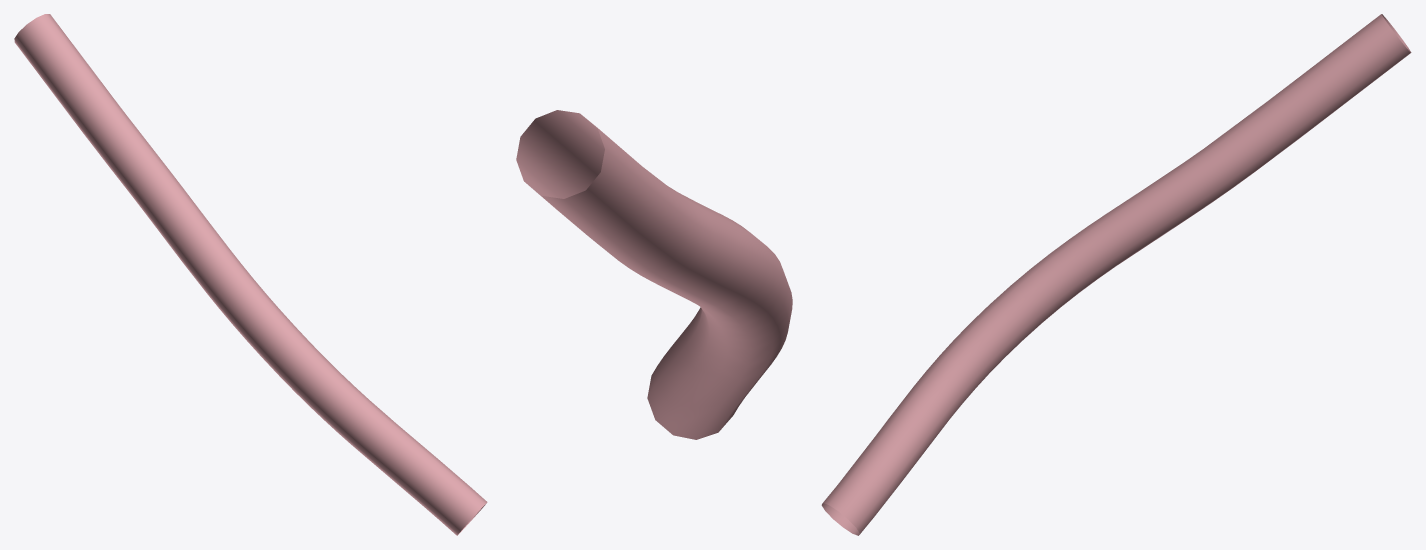
The model's file is visceras-ejaculatory-duct-r.glb.
The picture shows the model from 3 angles, left to right: view 1: azimuth 30°, elevation 25°; view 2: azimuth 150°, elevation 25°; view 3: azimuth 270°, elevation 25°; orthographic projection. The views are drawn at different scales.
Parts seen in each view (by area): view 1: Ejaculatory duct.r; view 2: Ejaculatory duct.r; view 3: Ejaculatory duct.r.
Part boxes in pixels (bbox=[...]): Ejaculatory duct.r: bbox=[14, 14, 487, 535]; Ejaculatory duct.r: bbox=[516, 110, 792, 439]; Ejaculatory duct.r: bbox=[821, 14, 1411, 535].
Size of the model in its own units: 0.00904 by 0.0149 by 0.0188.
